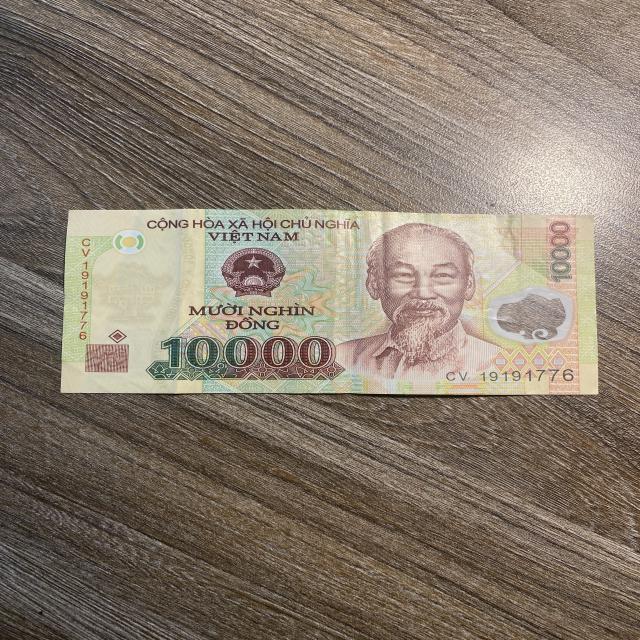10 000 VND: (55, 205, 602, 399)
